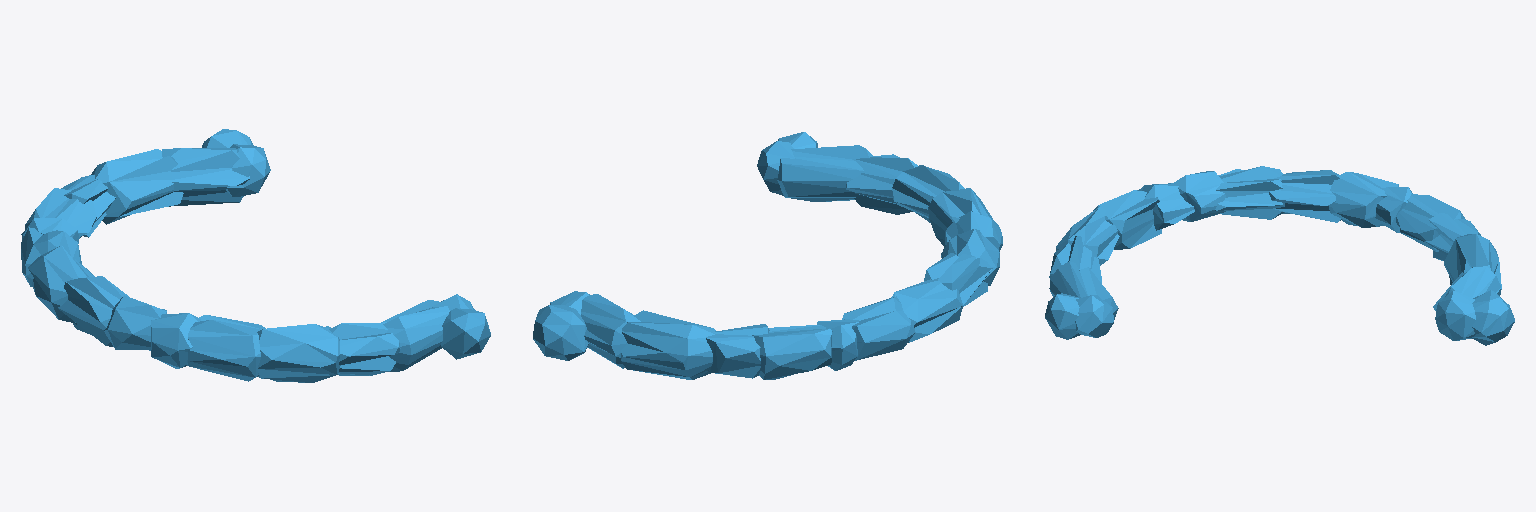
The robot description file, URDF, robot "partnet_8ae5d501-fa9c-4a2c-ba9f-f3c2cc57dbeb-0":
<?xml version="1.0" ?><robot name="partnet_8ae5d501-fa9c-4a2c-ba9f-f3c2cc57dbeb-0">
	<link name="base"/>
	<link name="link_0">
		<visual>
			<origin xyz="2.66339554509732e-10 -0.5932410873018391 0.01612054014811294"/>
			<geometry>
				<mesh filename="new_objs/102358_link_0_11.obj"/>
			</geometry>
		</visual>
	<visual>
			<origin xyz="2.66339554509732e-10 -0.5932410873018391 0.01612054014811294"/>
			<geometry>
				<mesh filename="new_objs/102358_link_0_1.obj"/>
			</geometry>
		</visual>
	<visual>
			<origin xyz="2.66339554509732e-10 -0.5932410873018391 0.01612054014811294"/>
			<geometry>
				<mesh filename="new_objs/102358_link_0_5.obj"/>
			</geometry>
		</visual>
	<visual>
			<origin xyz="2.66339554509732e-10 -0.5932410873018391 0.01612054014811294"/>
			<geometry>
				<mesh filename="new_objs/102358_link_0_13.obj"/>
			</geometry>
		</visual>
	<visual>
			<origin xyz="2.66339554509732e-10 -0.5932410873018391 0.01612054014811294"/>
			<geometry>
				<mesh filename="new_objs/102358_link_0_8.obj"/>
			</geometry>
		</visual>
	<visual>
			<origin xyz="2.66339554509732e-10 -0.5932410873018391 0.01612054014811294"/>
			<geometry>
				<mesh filename="new_objs/102358_link_0_15.obj"/>
			</geometry>
		</visual>
	<visual>
			<origin xyz="2.66339554509732e-10 -0.5932410873018391 0.01612054014811294"/>
			<geometry>
				<mesh filename="new_objs/102358_link_0_4.obj"/>
			</geometry>
		</visual>
	<visual>
			<origin xyz="2.66339554509732e-10 -0.5932410873018391 0.01612054014811294"/>
			<geometry>
				<mesh filename="new_objs/102358_link_0_3.obj"/>
			</geometry>
		</visual>
	<visual>
			<origin xyz="2.66339554509732e-10 -0.5932410873018391 0.01612054014811294"/>
			<geometry>
				<mesh filename="new_objs/102358_link_0_6.obj"/>
			</geometry>
		</visual>
	<visual>
			<origin xyz="2.66339554509732e-10 -0.5932410873018391 0.01612054014811294"/>
			<geometry>
				<mesh filename="new_objs/102358_link_0_14.obj"/>
			</geometry>
		</visual>
	<visual>
			<origin xyz="2.66339554509732e-10 -0.5932410873018391 0.01612054014811294"/>
			<geometry>
				<mesh filename="new_objs/102358_link_0_0.obj"/>
			</geometry>
		</visual>
	<visual>
			<origin xyz="2.66339554509732e-10 -0.5932410873018391 0.01612054014811294"/>
			<geometry>
				<mesh filename="new_objs/102358_link_0_17.obj"/>
			</geometry>
		</visual>
	<visual>
			<origin xyz="2.66339554509732e-10 -0.5932410873018391 0.01612054014811294"/>
			<geometry>
				<mesh filename="new_objs/102358_link_0_16.obj"/>
			</geometry>
		</visual>
	<visual>
			<origin xyz="2.66339554509732e-10 -0.5932410873018391 0.01612054014811294"/>
			<geometry>
				<mesh filename="new_objs/102358_link_0_10.obj"/>
			</geometry>
		</visual>
	<visual>
			<origin xyz="2.66339554509732e-10 -0.5932410873018391 0.01612054014811294"/>
			<geometry>
				<mesh filename="new_objs/102358_link_0_7.obj"/>
			</geometry>
		</visual>
	<visual>
			<origin xyz="2.66339554509732e-10 -0.5932410873018391 0.01612054014811294"/>
			<geometry>
				<mesh filename="new_objs/102358_link_0_9.obj"/>
			</geometry>
		</visual>
	<visual>
			<origin xyz="2.66339554509732e-10 -0.5932410873018391 0.01612054014811294"/>
			<geometry>
				<mesh filename="new_objs/102358_link_0_2.obj"/>
			</geometry>
		</visual>
	<visual>
			<origin xyz="2.66339554509732e-10 -0.5932410873018391 0.01612054014811294"/>
			<geometry>
				<mesh filename="new_objs/102358_link_0_12.obj"/>
			</geometry>
		</visual>
	
		<collision>
			<origin xyz="2.66339554509732e-10 -0.5932410873018391 0.01612054014811294"/>
			<geometry>
				<mesh filename="new_objs/102358_link_0_11.obj"/>
			</geometry>
		</collision><collision>
			<origin xyz="2.66339554509732e-10 -0.5932410873018391 0.01612054014811294"/>
			<geometry>
				<mesh filename="new_objs/102358_link_0_1.obj"/>
			</geometry>
		</collision><collision>
			<origin xyz="2.66339554509732e-10 -0.5932410873018391 0.01612054014811294"/>
			<geometry>
				<mesh filename="new_objs/102358_link_0_5.obj"/>
			</geometry>
		</collision><collision>
			<origin xyz="2.66339554509732e-10 -0.5932410873018391 0.01612054014811294"/>
			<geometry>
				<mesh filename="new_objs/102358_link_0_13.obj"/>
			</geometry>
		</collision><collision>
			<origin xyz="2.66339554509732e-10 -0.5932410873018391 0.01612054014811294"/>
			<geometry>
				<mesh filename="new_objs/102358_link_0_8.obj"/>
			</geometry>
		</collision><collision>
			<origin xyz="2.66339554509732e-10 -0.5932410873018391 0.01612054014811294"/>
			<geometry>
				<mesh filename="new_objs/102358_link_0_15.obj"/>
			</geometry>
		</collision><collision>
			<origin xyz="2.66339554509732e-10 -0.5932410873018391 0.01612054014811294"/>
			<geometry>
				<mesh filename="new_objs/102358_link_0_4.obj"/>
			</geometry>
		</collision><collision>
			<origin xyz="2.66339554509732e-10 -0.5932410873018391 0.01612054014811294"/>
			<geometry>
				<mesh filename="new_objs/102358_link_0_3.obj"/>
			</geometry>
		</collision><collision>
			<origin xyz="2.66339554509732e-10 -0.5932410873018391 0.01612054014811294"/>
			<geometry>
				<mesh filename="new_objs/102358_link_0_6.obj"/>
			</geometry>
		</collision><collision>
			<origin xyz="2.66339554509732e-10 -0.5932410873018391 0.01612054014811294"/>
			<geometry>
				<mesh filename="new_objs/102358_link_0_14.obj"/>
			</geometry>
		</collision><collision>
			<origin xyz="2.66339554509732e-10 -0.5932410873018391 0.01612054014811294"/>
			<geometry>
				<mesh filename="new_objs/102358_link_0_0.obj"/>
			</geometry>
		</collision><collision>
			<origin xyz="2.66339554509732e-10 -0.5932410873018391 0.01612054014811294"/>
			<geometry>
				<mesh filename="new_objs/102358_link_0_17.obj"/>
			</geometry>
		</collision><collision>
			<origin xyz="2.66339554509732e-10 -0.5932410873018391 0.01612054014811294"/>
			<geometry>
				<mesh filename="new_objs/102358_link_0_16.obj"/>
			</geometry>
		</collision><collision>
			<origin xyz="2.66339554509732e-10 -0.5932410873018391 0.01612054014811294"/>
			<geometry>
				<mesh filename="new_objs/102358_link_0_10.obj"/>
			</geometry>
		</collision><collision>
			<origin xyz="2.66339554509732e-10 -0.5932410873018391 0.01612054014811294"/>
			<geometry>
				<mesh filename="new_objs/102358_link_0_7.obj"/>
			</geometry>
		</collision><collision>
			<origin xyz="2.66339554509732e-10 -0.5932410873018391 0.01612054014811294"/>
			<geometry>
				<mesh filename="new_objs/102358_link_0_9.obj"/>
			</geometry>
		</collision><collision>
			<origin xyz="2.66339554509732e-10 -0.5932410873018391 0.01612054014811294"/>
			<geometry>
				<mesh filename="new_objs/102358_link_0_2.obj"/>
			</geometry>
		</collision><collision>
			<origin xyz="2.66339554509732e-10 -0.5932410873018391 0.01612054014811294"/>
			<geometry>
				<mesh filename="new_objs/102358_link_0_12.obj"/>
			</geometry>
		</collision></link>
	<joint name="joint_0" type="revolute">
		<origin xyz="-2.66339554509732e-10 0.5932410873018391 -0.01612054014811294"/>
		<axis xyz="-1 -0.005 0"/>
		<child link="link_0"/>
		<parent link="link_1"/>
		<limit lower="-0.025132741228718343" upper="3.078760800517997"/>
	</joint>
	<link name="link_1">
		<collision>
			<origin xyz="0 0 0"/>
			<geometry>
				<mesh filename="new_objs/102358_link_1_23.obj"/>
			</geometry>
		</collision>
		<collision>
			<origin xyz="0 0 0"/>
			<geometry>
				<mesh filename="new_objs/102358_link_1_38.obj"/>
			</geometry>
		</collision>
		<collision>
			<origin xyz="0 0 0"/>
			<geometry>
				<mesh filename="new_objs/102358_link_1_11.obj"/>
			</geometry>
		</collision>
		<collision>
			<origin xyz="0 0 0"/>
			<geometry>
				<mesh filename="new_objs/102358_link_1_42.obj"/>
			</geometry>
		</collision>
		<collision>
			<origin xyz="0 0 0"/>
			<geometry>
				<mesh filename="new_objs/102358_link_1_47.obj"/>
			</geometry>
		</collision>
		<collision>
			<origin xyz="0 0 0"/>
			<geometry>
				<mesh filename="new_objs/102358_link_1_14.obj"/>
			</geometry>
		</collision>
		<collision>
			<origin xyz="0 0 0"/>
			<geometry>
				<mesh filename="new_objs/102358_link_1_2.obj"/>
			</geometry>
		</collision>
		<collision>
			<origin xyz="0 0 0"/>
			<geometry>
				<mesh filename="new_objs/102358_link_1_7.obj"/>
			</geometry>
		</collision>
		<collision>
			<origin xyz="0 0 0"/>
			<geometry>
				<mesh filename="new_objs/102358_link_1_39.obj"/>
			</geometry>
		</collision>
		<collision>
			<origin xyz="0 0 0"/>
			<geometry>
				<mesh filename="new_objs/102358_link_1_4.obj"/>
			</geometry>
		</collision>
		<collision>
			<origin xyz="0 0 0"/>
			<geometry>
				<mesh filename="new_objs/102358_link_1_43.obj"/>
			</geometry>
		</collision>
		<collision>
			<origin xyz="0 0 0"/>
			<geometry>
				<mesh filename="new_objs/102358_link_1_32.obj"/>
			</geometry>
		</collision>
		<collision>
			<origin xyz="0 0 0"/>
			<geometry>
				<mesh filename="new_objs/102358_link_1_29.obj"/>
			</geometry>
		</collision>
		<collision>
			<origin xyz="0 0 0"/>
			<geometry>
				<mesh filename="new_objs/102358_link_1_21.obj"/>
			</geometry>
		</collision>
		<collision>
			<origin xyz="0 0 0"/>
			<geometry>
				<mesh filename="new_objs/102358_link_1_1.obj"/>
			</geometry>
		</collision>
		<collision>
			<origin xyz="0 0 0"/>
			<geometry>
				<mesh filename="new_objs/102358_link_1_22.obj"/>
			</geometry>
		</collision>
		<collision>
			<origin xyz="0 0 0"/>
			<geometry>
				<mesh filename="new_objs/102358_link_1_31.obj"/>
			</geometry>
		</collision>
		<collision>
			<origin xyz="0 0 0"/>
			<geometry>
				<mesh filename="new_objs/102358_link_1_25.obj"/>
			</geometry>
		</collision>
		<collision>
			<origin xyz="0 0 0"/>
			<geometry>
				<mesh filename="new_objs/102358_link_1_45.obj"/>
			</geometry>
		</collision>
		<collision>
			<origin xyz="0 0 0"/>
			<geometry>
				<mesh filename="new_objs/102358_link_1_26.obj"/>
			</geometry>
		</collision>
		<collision>
			<origin xyz="0 0 0"/>
			<geometry>
				<mesh filename="new_objs/102358_link_1_36.obj"/>
			</geometry>
		</collision>
		<collision>
			<origin xyz="0 0 0"/>
			<geometry>
				<mesh filename="new_objs/102358_link_1_35.obj"/>
			</geometry>
		</collision>
		<collision>
			<origin xyz="0 0 0"/>
			<geometry>
				<mesh filename="new_objs/102358_link_1_17.obj"/>
			</geometry>
		</collision>
		<collision>
			<origin xyz="0 0 0"/>
			<geometry>
				<mesh filename="new_objs/102358_link_1_46.obj"/>
			</geometry>
		</collision>
		<collision>
			<origin xyz="0 0 0"/>
			<geometry>
				<mesh filename="new_objs/102358_link_1_20.obj"/>
			</geometry>
		</collision>
		<collision>
			<origin xyz="0 0 0"/>
			<geometry>
				<mesh filename="new_objs/102358_link_1_15.obj"/>
			</geometry>
		</collision>
		<collision>
			<origin xyz="0 0 0"/>
			<geometry>
				<mesh filename="new_objs/102358_link_1_41.obj"/>
			</geometry>
		</collision>
		<collision>
			<origin xyz="0 0 0"/>
			<geometry>
				<mesh filename="new_objs/102358_link_1_0.obj"/>
			</geometry>
		</collision>
		<collision>
			<origin xyz="0 0 0"/>
			<geometry>
				<mesh filename="new_objs/102358_link_1_9.obj"/>
			</geometry>
		</collision>
		<collision>
			<origin xyz="0 0 0"/>
			<geometry>
				<mesh filename="new_objs/102358_link_1_33.obj"/>
			</geometry>
		</collision>
		<collision>
			<origin xyz="0 0 0"/>
			<geometry>
				<mesh filename="new_objs/102358_link_1_6.obj"/>
			</geometry>
		</collision>
		<collision>
			<origin xyz="0 0 0"/>
			<geometry>
				<mesh filename="new_objs/102358_link_1_37.obj"/>
			</geometry>
		</collision>
		<collision>
			<origin xyz="0 0 0"/>
			<geometry>
				<mesh filename="new_objs/102358_link_1_5.obj"/>
			</geometry>
		</collision>
		<collision>
			<origin xyz="0 0 0"/>
			<geometry>
				<mesh filename="new_objs/102358_link_1_16.obj"/>
			</geometry>
		</collision>
		<collision>
			<origin xyz="0 0 0"/>
			<geometry>
				<mesh filename="new_objs/102358_link_1_8.obj"/>
			</geometry>
		</collision>
		<collision>
			<origin xyz="0 0 0"/>
			<geometry>
				<mesh filename="new_objs/102358_link_1_28.obj"/>
			</geometry>
		</collision>
		<collision>
			<origin xyz="0 0 0"/>
			<geometry>
				<mesh filename="new_objs/102358_link_1_3.obj"/>
			</geometry>
		</collision>
		<collision>
			<origin xyz="0 0 0"/>
			<geometry>
				<mesh filename="new_objs/102358_link_1_13.obj"/>
			</geometry>
		</collision>
		<collision>
			<origin xyz="0 0 0"/>
			<geometry>
				<mesh filename="new_objs/102358_link_1_44.obj"/>
			</geometry>
		</collision>
		<collision>
			<origin xyz="0 0 0"/>
			<geometry>
				<mesh filename="new_objs/102358_link_1_18.obj"/>
			</geometry>
		</collision>
		<collision>
			<origin xyz="0 0 0"/>
			<geometry>
				<mesh filename="new_objs/102358_link_1_30.obj"/>
			</geometry>
		</collision>
		<collision>
			<origin xyz="0 0 0"/>
			<geometry>
				<mesh filename="new_objs/102358_link_1_27.obj"/>
			</geometry>
		</collision>
		<collision>
			<origin xyz="0 0 0"/>
			<geometry>
				<mesh filename="new_objs/102358_link_1_10.obj"/>
			</geometry>
		</collision>
		<collision>
			<origin xyz="0 0 0"/>
			<geometry>
				<mesh filename="new_objs/102358_link_1_12.obj"/>
			</geometry>
		</collision>
		<collision>
			<origin xyz="0 0 0"/>
			<geometry>
				<mesh filename="new_objs/102358_link_1_24.obj"/>
			</geometry>
		</collision>
		<collision>
			<origin xyz="0 0 0"/>
			<geometry>
				<mesh filename="new_objs/102358_link_1_34.obj"/>
			</geometry>
		</collision>
		<collision>
			<origin xyz="0 0 0"/>
			<geometry>
				<mesh filename="new_objs/102358_link_1_19.obj"/>
			</geometry>
		</collision>
		<collision>
			<origin xyz="0 0 0"/>
			<geometry>
				<mesh filename="new_objs/102358_link_1_40.obj"/>
			</geometry>
		</collision>
		<visual name="base_body-part[&quot;id]">
			<origin xyz="0 0 0"/>
			<geometry>
				<mesh filename="textured_objs/original-4.obj"/>
			</geometry>
		</visual>
		<visual name="base_body-part[&quot;id]">
			<origin xyz="0 0 0"/>
			<geometry>
				<mesh filename="textured_objs/original-3.obj"/>
			</geometry>
		</visual>
		<visual name="base_body-part[&quot;id]">
			<origin xyz="0 0 0"/>
			<geometry>
				<mesh filename="textured_objs/original-9.obj"/>
			</geometry>
		</visual>
		<visual name="base_body-part[&quot;id]">
			<origin xyz="0 0 0"/>
			<geometry>
				<mesh filename="textured_objs/original-6.obj"/>
			</geometry>
		</visual>
		<visual name="base_body-part[&quot;id]">
			<origin xyz="0 0 0"/>
			<geometry>
				<mesh filename="textured_objs/original-7.obj"/>
			</geometry>
		</visual>
		<visual name="base_body-part[&quot;id]">
			<origin xyz="0 0 0"/>
			<geometry>
				<mesh filename="textured_objs/original-10.obj"/>
			</geometry>
		</visual>
		</link>
	<joint name="joint_1" type="fixed">
		<origin rpy="1.570796326794897 0 -1.570796326794897" xyz="0 0 0"/>
		<child link="link_1"/>
		<parent link="base"/>
	</joint>
</robot>

--- What the picture shows (computed from the rendered views, not written in the file) ---
3 views of the same robot in one strip: view 1: azimuth 30°, elevation 25°; view 2: azimuth 150°, elevation 25°; view 3: azimuth 270°, elevation 25° (orthographic).
Model partnet_8ae5d501-fa9c-4a2c-ba9f-f3c2cc57dbeb-0 with 3 links and 2 joints (1 revolute, 1 fixed), rooted at base, posed all joints at 0.
Visible links, largest first — view 1: link_0; view 2: link_0; view 3: link_0.
Link boxes in pixels (box(x1,y1,x2,y2)): link_0: box(21, 129, 490, 382); link_0: box(533, 132, 1002, 379); link_0: box(1045, 166, 1514, 345).
Bounding box of the posed robot: 0.9641 × 1.39 × 0.1915 m (x, y, z).
Meshes: 24 distinct files referenced, 18 mesh visuals loaded (18 OBJ); not drawn: 6 (reference not matched to a file when rendering).
